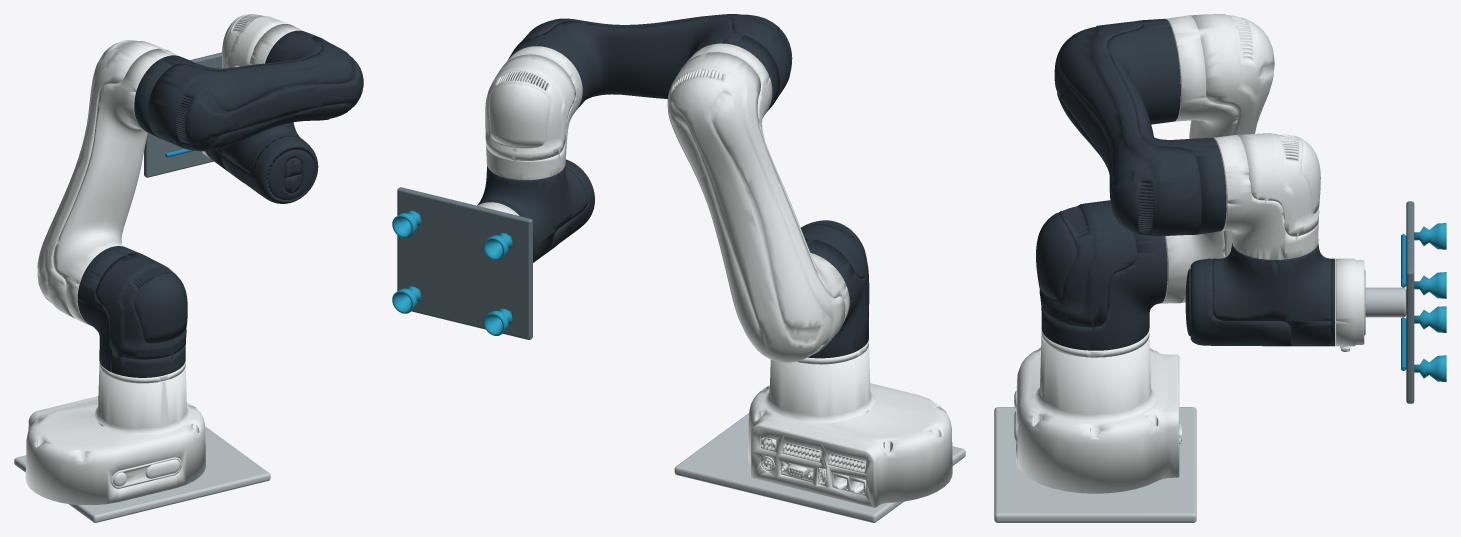
The model's file is me6_robot.glb.
The picture shows the model from 3 angles, left to right: view 1: azimuth 30°, elevation 25°; view 2: azimuth 150°, elevation 25°; view 3: azimuth 270°, elevation 25°; orthographic projection. The views are drawn at different scales.
Visible parts, largest first — view 1: me6_bag_robot / base_link visual.001, me6_bag_robot / Link3 visual.001, me6_bag_robot / Link2 visual.001, me6_bag_robot / Link1 visual.001, me6_bag_robot / Link5 visual.001, ME6 mounting plate.001, me6_bag_robot / Link4 visual.001, Lightweight four-cup mounting plate.001; view 2: me6_bag_robot / Link2 visual.001, me6_bag_robot / base_link visual.001, Lightweight four-cup mounting plate.001, me6_bag_robot / Link3 visual.001, me6_bag_robot / Link4 visual.001, ME6 mounting plate.001, me6_bag_robot / Link5 visual.001, me6_bag_robot / Link1 visual.001; view 3: me6_bag_robot / Link3 visual.001, me6_bag_robot / base_link visual.001, me6_bag_robot / Link1 visual.001, me6_bag_robot / Link5 visual.001, me6_bag_robot / Link2 visual.001, me6_bag_robot / Link4 visual.001, ME6 mounting plate.001, me6_bag_robot / Link6 visual.001, Lightweight four-cup mounting plate.001, Tool stand-off.001, Robot pickup suction cup.006, Robot pickup suction cup.004 (+2 smaller).
Part boxes in pixels (x1,y1,x2,y2): me6_bag_robot / base_link visual.001: [25, 362, 205, 504]; me6_bag_robot / Link3 visual.001: [134, 30, 363, 151]; me6_bag_robot / Link2 visual.001: [37, 40, 178, 325]; me6_bag_robot / Link1 visual.001: [77, 246, 187, 377]; me6_bag_robot / Link5 visual.001: [206, 122, 318, 203]; ME6 mounting plate.001: [14, 426, 270, 522]; me6_bag_robot / Link4 visual.001: [222, 14, 303, 68]; Lightweight four-cup mounting plate.001: [144, 52, 222, 177]; me6_bag_robot / Link2 visual.001: [667, 43, 849, 362]; me6_bag_robot / base_link visual.001: [748, 340, 952, 507]; Lightweight four-cup mounting plate.001: [397, 187, 532, 339]; me6_bag_robot / Link3 visual.001: [506, 14, 792, 112]; me6_bag_robot / Link4 visual.001: [485, 46, 582, 180]; ME6 mounting plate.001: [674, 413, 965, 522]; me6_bag_robot / Link5 visual.001: [477, 159, 594, 262]; me6_bag_robot / Link1 visual.001: [801, 220, 869, 358]; me6_bag_robot / Link3 visual.001: [1054, 18, 1226, 236]; me6_bag_robot / base_link visual.001: [1014, 328, 1181, 493]; me6_bag_robot / Link1 visual.001: [1036, 200, 1167, 350]; me6_bag_robot / Link5 visual.001: [1185, 243, 1335, 346]; me6_bag_robot / Link2 visual.001: [1161, 14, 1274, 303]; me6_bag_robot / Link4 visual.001: [1213, 133, 1320, 259]; ME6 mounting plate.001: [994, 407, 1196, 522]; me6_bag_robot / Link6 visual.001: [1336, 258, 1364, 351]; Lightweight four-cup mounting plate.001: [1406, 201, 1414, 403]; Tool stand-off.001: [1365, 287, 1406, 317]; Robot pickup suction cup.006: [1414, 272, 1446, 298]; Robot pickup suction cup.004: [1414, 223, 1446, 249].
Bounding box in the file's own units: 0.3789 × 0.3907 × 0.335.
